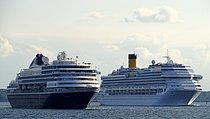Ship: (96, 51, 210, 113), (5, 47, 107, 111)
